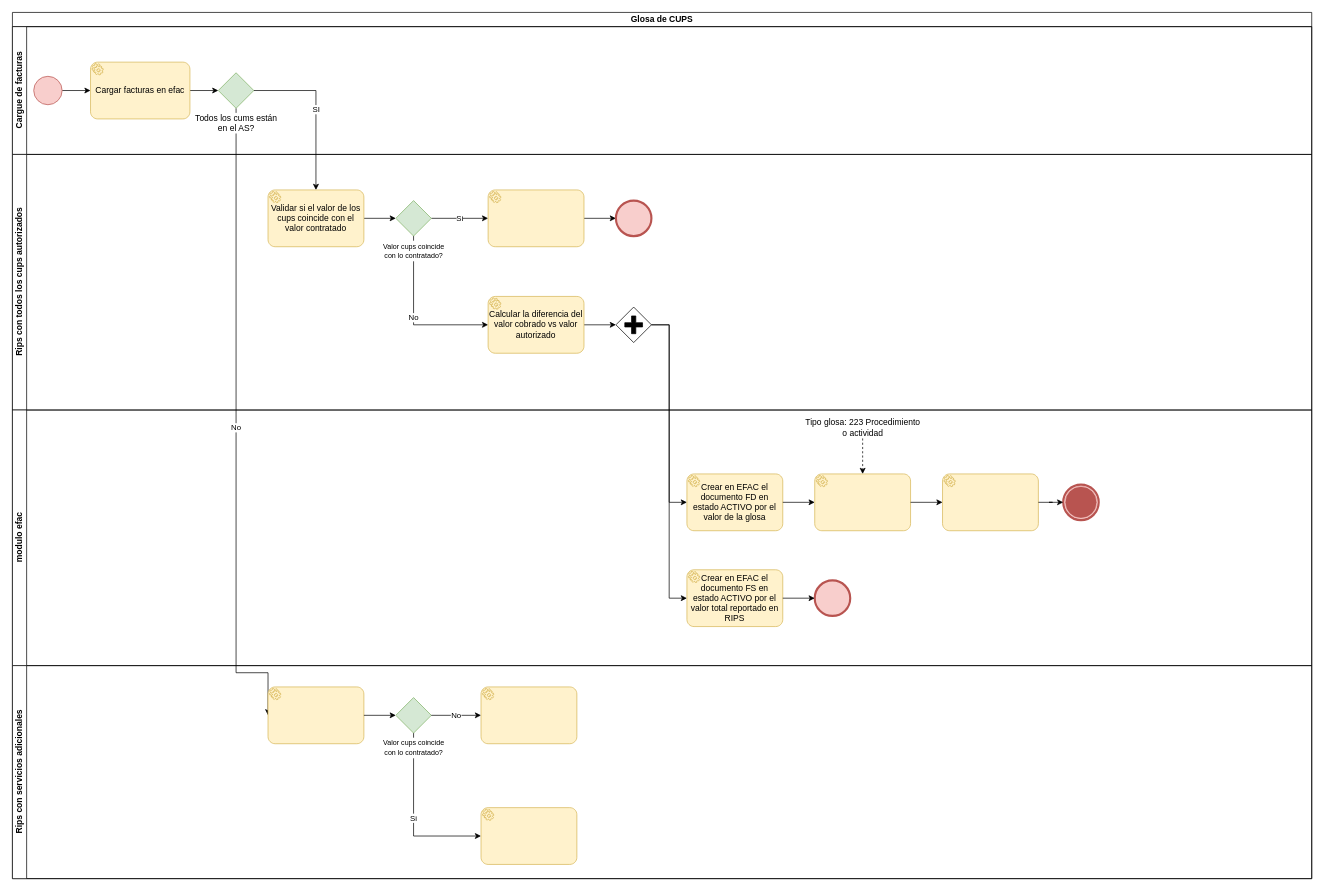
Image size: 1324x891. Some labels were removed from this diagram. Here are the shapes that lost their labels. From the top down, the centre of each, then its label:
At point (535, 218): "Continuar con proceso de validación de RIPS".
At point (862, 502): "Insertar en el detalle del FD el o los tipo(s) de glosa(s)".
At point (990, 502): "Agregar en el campo observaciones el resultado de la glosa".
At point (315, 715): "Validar si el valor de los cups que están en el AS coincide con lo contratado".
At point (528, 715): "Calcular la diferencia de los cups que fueron autorizados".
At point (528, 835): "Glosar los cups adicionales no autorizados".
